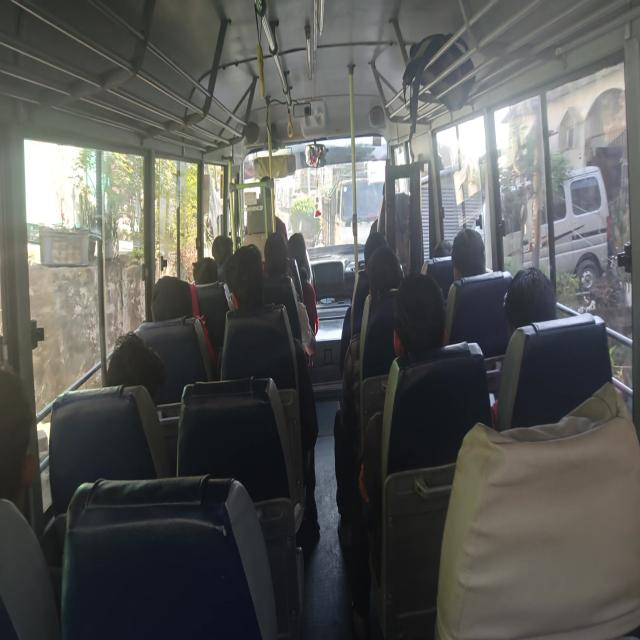person: (109, 332, 168, 410), (2, 365, 34, 508), (506, 264, 554, 342), (145, 268, 198, 335), (396, 288, 447, 354), (228, 244, 262, 314), (194, 253, 225, 300), (368, 250, 397, 298), (454, 227, 480, 279), (288, 233, 310, 266), (266, 239, 282, 280), (213, 239, 233, 266), (431, 242, 454, 264), (364, 234, 385, 257), (259, 175, 275, 194), (379, 186, 394, 200)
